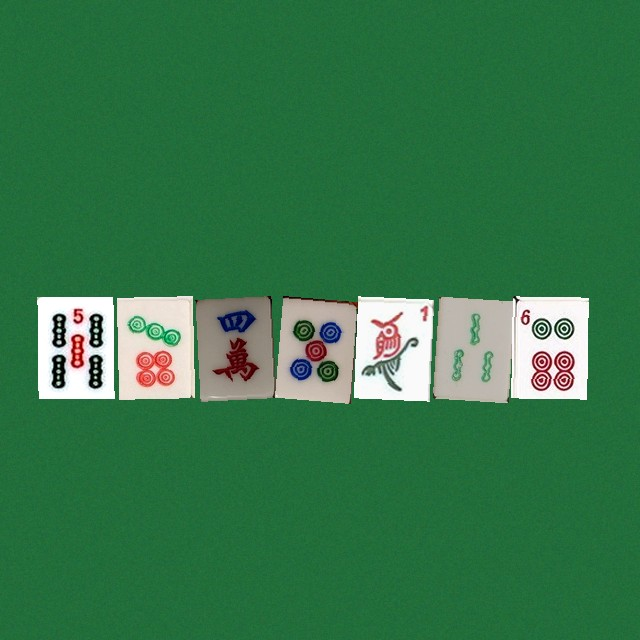tile: (37, 296, 113, 398), (116, 296, 192, 398), (195, 296, 271, 398), (274, 296, 350, 398), (353, 296, 429, 398), (432, 296, 508, 398), (511, 296, 587, 398)
